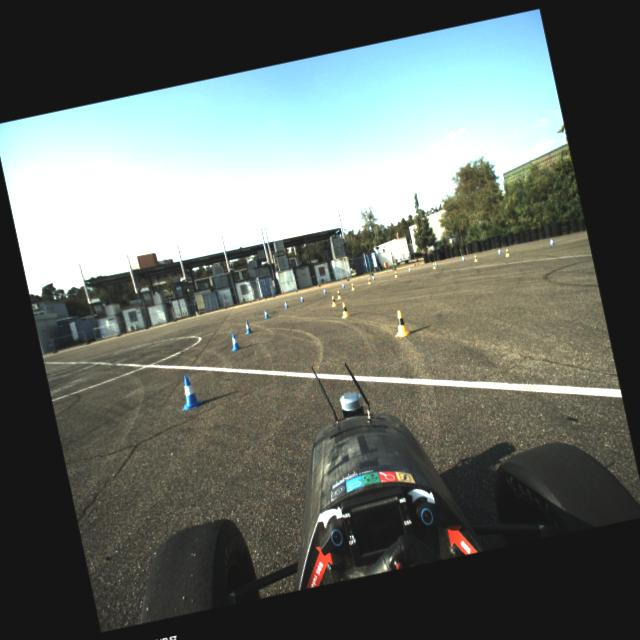blue_cone: (175, 374, 203, 411), (228, 332, 240, 351), (244, 320, 252, 334), (262, 308, 270, 318), (548, 237, 554, 245), (283, 300, 288, 308), (300, 294, 304, 302), (496, 248, 501, 254), (433, 260, 438, 266), (322, 287, 327, 293), (460, 254, 464, 260), (371, 274, 375, 280), (340, 282, 344, 288), (408, 266, 411, 272)
yellow_cone: (390, 308, 410, 336), (339, 302, 349, 318), (330, 295, 337, 307), (336, 289, 342, 299), (504, 248, 509, 256), (350, 282, 354, 290), (393, 271, 398, 277), (473, 254, 477, 261), (432, 261, 436, 268), (367, 277, 371, 284)
